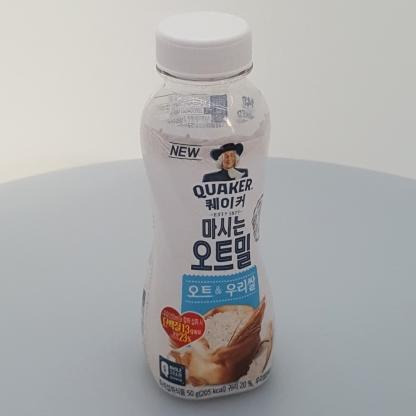---------50G: (140, 11, 275, 399)
